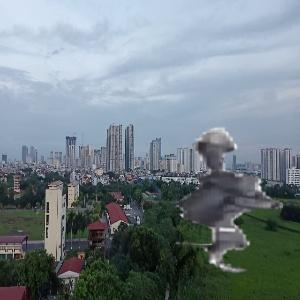drone: (116, 115, 284, 283)
